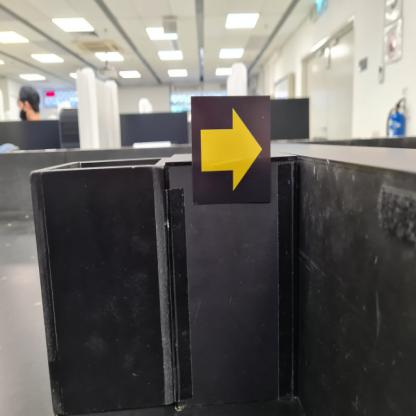right: (191, 95, 274, 206)
